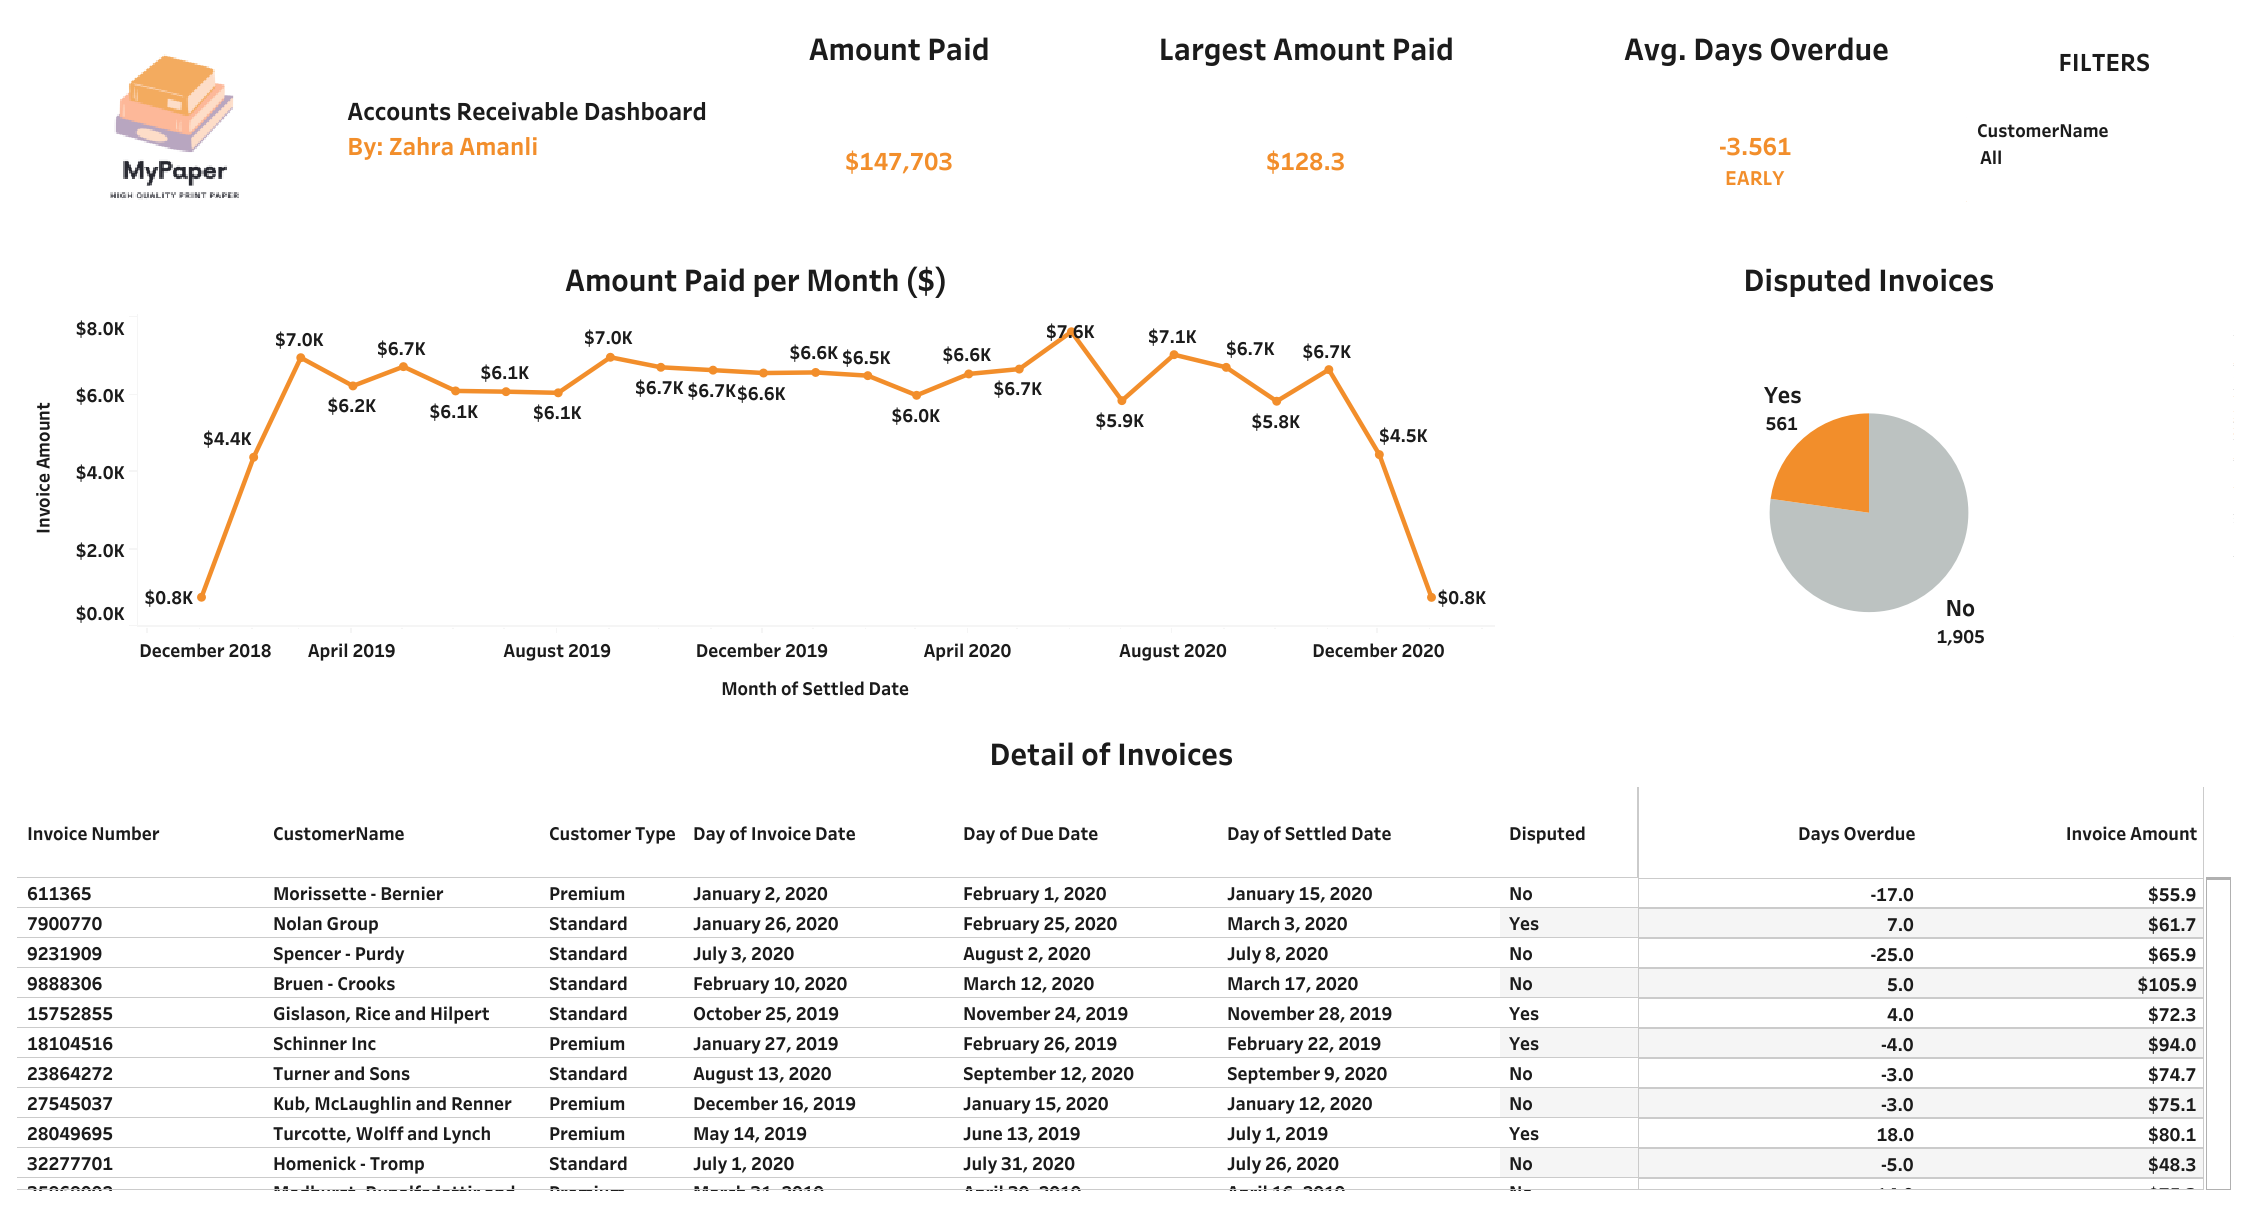

What the dashboard file says about the page in this screenshot:
{"tool":"tableau","page":{"name":"Accounts Receivable Dashboards","canvas":[1500,806],"ordinal":0},"visuals":[{"type":"image","param":"Image/MyPaper.png","box":[8,8,217,154]},{"type":"text","box":[225,8,260,154]},{"type":"worksheet","title":"Amount Paid","mark":"Automatic","box":[485,8,229,154]},{"type":"worksheet","title":"Largest Amount Paid","mark":"Automatic","box":[714,8,314,154]},{"type":"worksheet","title":"Avg Days Overdue","mark":"Automatic","box":[1028,8,286,154]},{"type":"text","box":[1314,8,178,64]},{"type":"filter","title":"Amount Paid per Month ($)","param":"[federated.1iw6xu41snumic1372mp61r9edds].[none:CustomerName:nk]","box":[1314,72,178,90]},{"type":"worksheet","title":"Amount Paid per Month ($)","mark":"Automatic","rows":["InvoiceAmount"],"cols":["SettledDate"],"box":[8,162,992,316]},{"type":"worksheet","title":"Disputed Invoices","mark":"Pie","box":[1000,162,492,316]},{"type":"worksheet","title":"Invoice List","mark":"Automatic","rows":["invoiceNumber","CustomerName","Customer Type","InvoiceDate","DueDate","SettledDate","Disputed"],"box":[8,478,1484,320]}]}

Visuals, with their boxes in screenshot pixels (x1, y1, x2, y2), scaled from the page's 1500x806 canvas onto the 2249x1208 screenshot:
image: <region>12, 12, 337, 243</region>
text: <region>337, 12, 727, 243</region>
"Amount Paid" worksheet: <region>727, 12, 1071, 243</region>
"Largest Amount Paid" worksheet: <region>1071, 12, 1541, 243</region>
"Avg Days Overdue" worksheet: <region>1541, 12, 1970, 243</region>
text: <region>1970, 12, 2237, 108</region>
"Amount Paid per Month ($)" filter: <region>1970, 108, 2237, 243</region>
"Amount Paid per Month ($)" worksheet: <region>12, 243, 1499, 716</region>
"Disputed Invoices" worksheet (Pie marks): <region>1499, 243, 2237, 716</region>
"Invoice List" worksheet: <region>12, 716, 2237, 1196</region>
